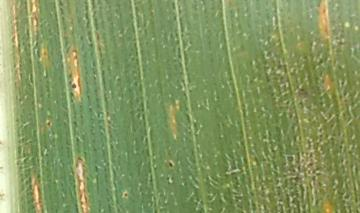tarspot: (165, 158, 177, 170), (69, 81, 82, 91), (45, 118, 55, 131), (122, 191, 130, 199)
